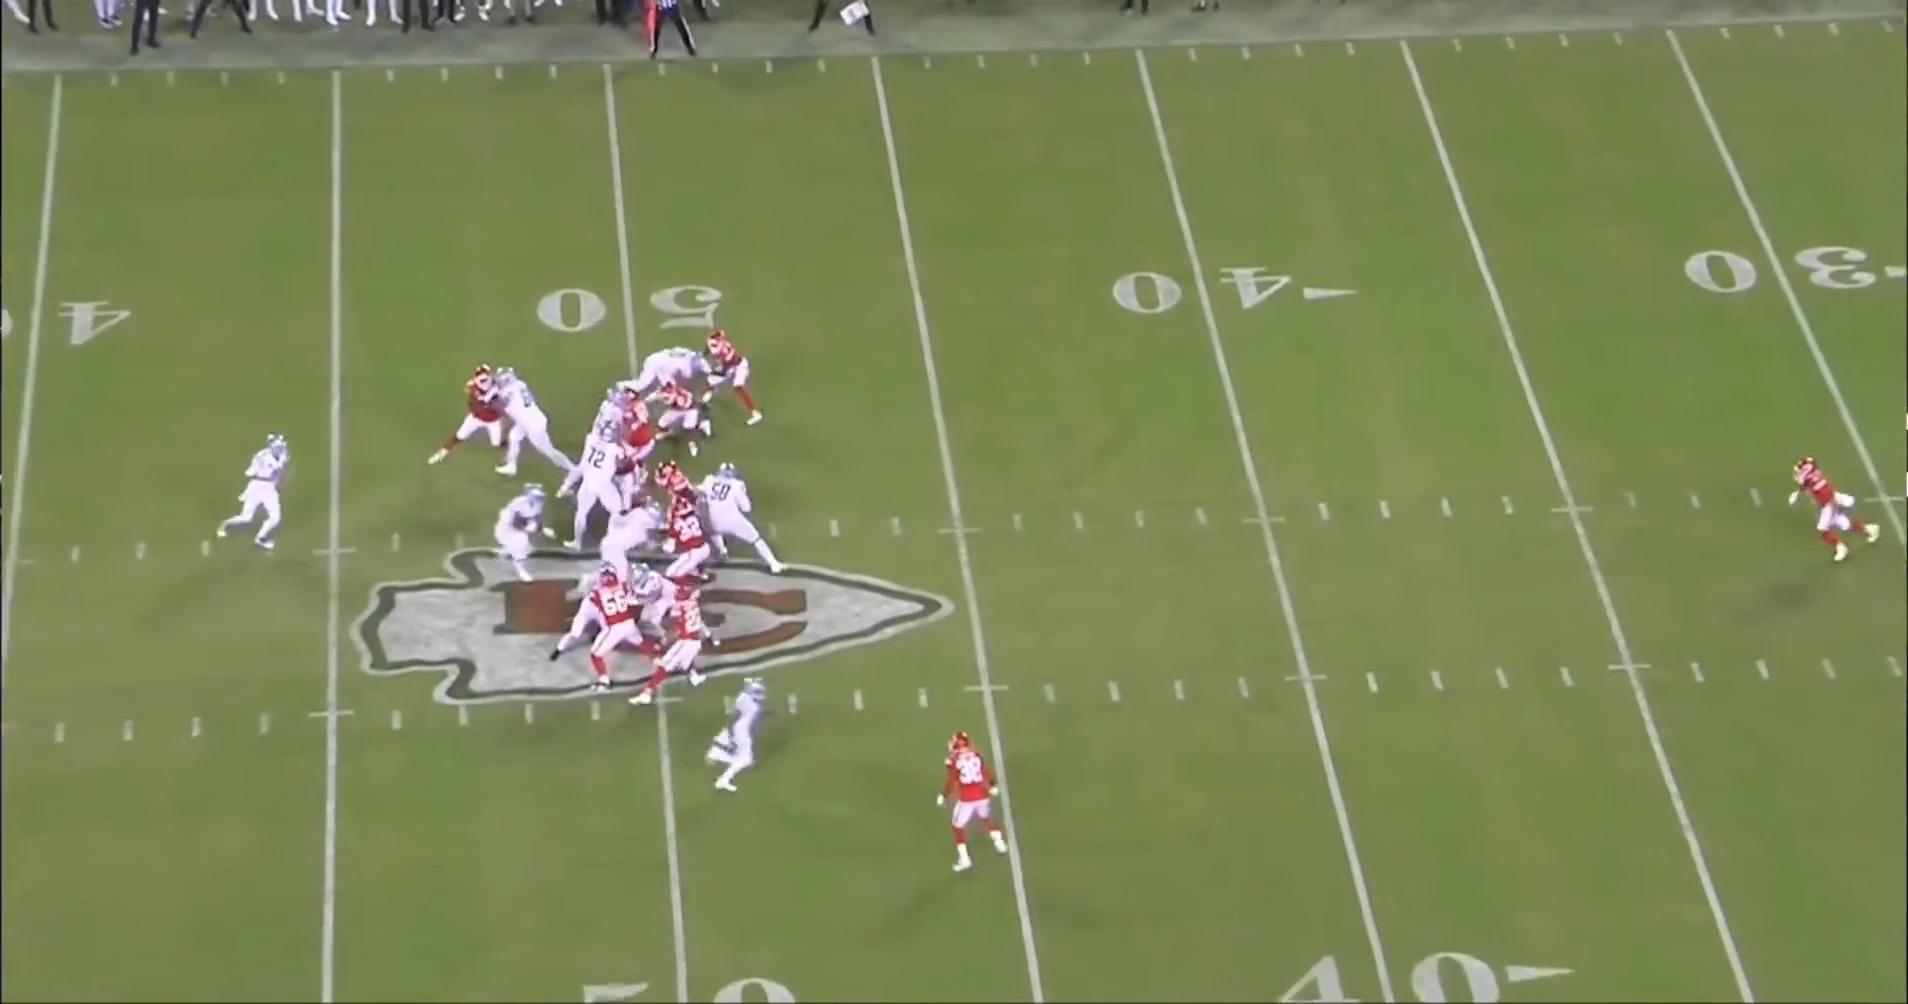defense: (936, 730, 1018, 874), (1789, 455, 1885, 566), (632, 585, 708, 703), (583, 566, 646, 698), (424, 363, 496, 467), (708, 329, 767, 426), (665, 505, 717, 602), (651, 377, 717, 444), (656, 463, 705, 539), (618, 388, 655, 489)
oline: (486, 363, 572, 479), (709, 462, 786, 579), (555, 385, 631, 499), (568, 426, 630, 564), (604, 497, 668, 564)
qb: (206, 426, 293, 551)
ref: (632, 0, 702, 62)
skill: (550, 564, 625, 672), (705, 671, 768, 793), (498, 482, 558, 588), (612, 343, 710, 404), (623, 565, 673, 674)
